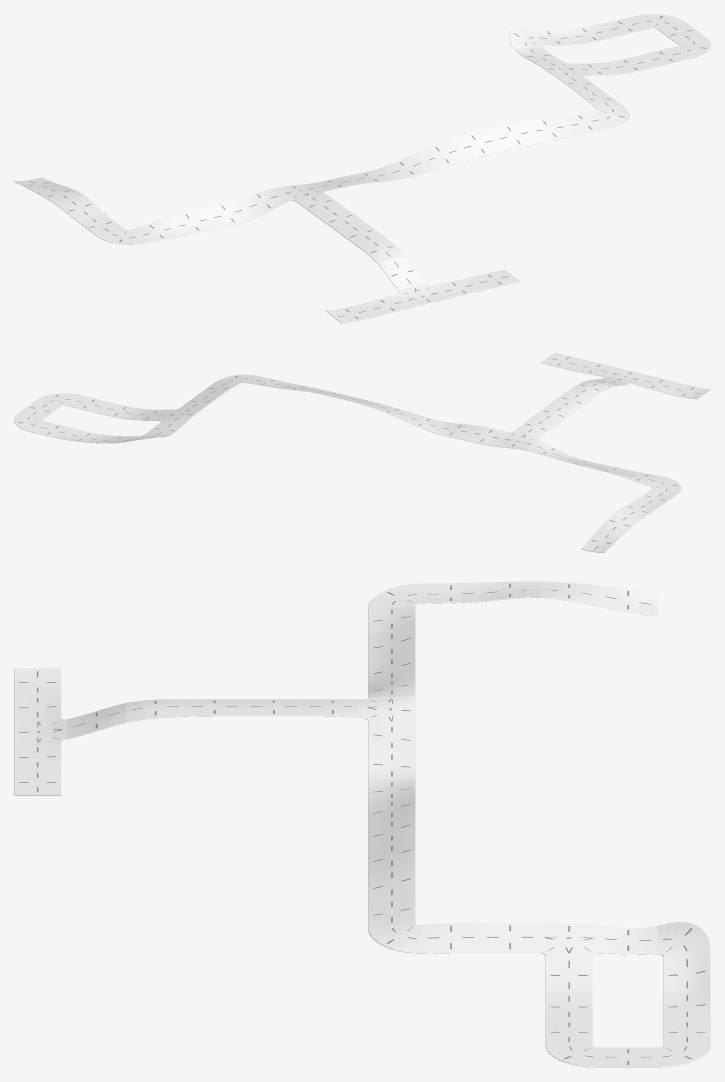
File: road creator.fbx
3 renders of one model, top to bottom at view 1: azimuth 30°, elevation 25°; view 2: azimuth 150°, elevation 25°; view 3: azimuth 270°, elevation 25°, orthographic. The views are drawn at different scales.
Visible parts, largest first — view 1: road_creator; view 2: road_creator; view 3: road_creator.
Part boxes in pixels (bbox=[...]): road_creator: bbox=[14, 14, 710, 323]; road_creator: bbox=[14, 352, 710, 552]; road_creator: bbox=[14, 581, 710, 1067].
Size of the model in its own units: 1880 by 64.86 by 1180.
